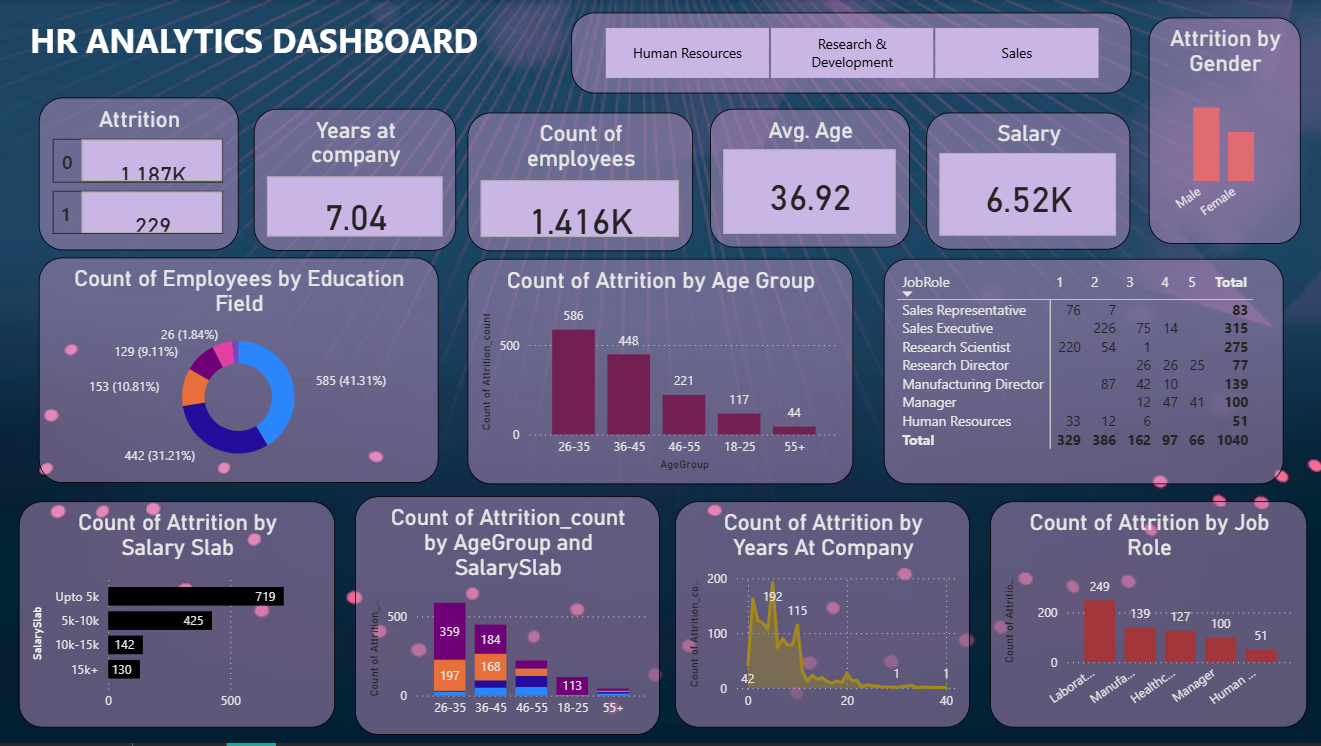

The dashboard page shown, as its layout file describes it:
{"tool":"powerbi","page":{"name":"Page 1","canvas":[1280,720],"ordinal":0},"visuals":[{"type":"cardVisual","title":"Count of employees","fields":{"Data":["CountNonNull(HR_Analytics.EmpID)"]},"box":[452.8,108.4,218.2,134.5],"z":0},{"type":"cardVisual","title":"Attrition","fields":{"Rows":["HR_Analytics.Attrition_count"],"Data":["CountNonNull(HR_Analytics.Attrition_count)"]},"box":[37,94.7,193.5,148.2],"z":1000},{"type":"cardVisual","title":"Avg. Age","fields":{"Data":["Avg(HR_Analytics.Age)"]},"box":[687.5,105.7,193.5,134.5],"z":2000},{"type":"cardVisual","title":"Salary","fields":{"Data":["Avg(HR_Analytics.MonthlyIncome)"]},"box":[897.4,108.4,197.6,133.1],"z":3000},{"type":"cardVisual","title":"Years at company","fields":{"Data":["Avg(HR_Analytics.YearsAtCompany)"]},"box":[245.6,105.7,196.2,137.2],"z":4000},{"type":"donutChart","title":"Count of Employees by Education Field","fields":{"Category":["HR_Analytics.EducationField"],"Y":["CountNonNull(HR_Analytics.EmpID)"]},"box":[37,249.7,387,218.2],"z":5000},{"type":"columnChart","title":"Attrition by Gender","fields":{"Category":["HR_Analytics.Gender"],"Y":["CountNonNull(HR_Analytics.Attrition)"]},"box":[1112.9,16.5,146.8,219.6],"z":6000},{"type":"textbox","box":[17.8,12.3,455.6,52.1],"z":7000},{"type":"slicer","fields":{"Values":["HR_Analytics.Department"]},"box":[553,12.3,542,78.2],"z":8000},{"type":"columnChart","title":"Count of Attrition by Age Group","fields":{"Category":["HR_Analytics.AgeGroup"],"Y":["CountNonNull(HR_Analytics.Attrition_count)"]},"box":[452.8,251.1,373.2,218.2],"z":9000},{"type":"pivotTable","fields":{"Columns":["HR_Analytics.JobLevel"],"Rows":["HR_Analytics.JobRole"],"Values":["CountNonNull(HR_Analytics.Attrition_count)"]},"box":[856.3,251.1,387,218.2],"z":10000},{"type":"barChart","title":"Count of Attrition by Salary Slab","fields":{"Y":["CountNonNull(HR_Analytics.Attrition_count)"],"Category":["HR_Analytics.SalarySlab","HR_Analytics.AgeGroup"]},"box":[18.2,485.4,306.3,219.1],"z":11000},{"type":"areaChart","title":"Count of Attrition by Years At Company","fields":{"Y":["CountNonNull(HR_Analytics.Attrition_count)"],"Category":["HR_Analytics.YearsAtCompany"]},"box":[653.7,485.4,285.7,219.1],"z":12000},{"type":"columnChart","title":"Count of Attrition by Job Role","fields":{"Category":["HR_Analytics.JobRole"],"Y":["CountNonNull(HR_Analytics.Attrition_count)"]},"box":[958.7,485.4,307.5,219.1],"z":13000},{"type":"columnChart","fields":{"Category":["HR_Analytics.AgeGroup"],"Y":["CountNonNull(HR_Analytics.Attrition_count)"],"Series":["HR_Analytics.SalarySlab"]},"box":[343.8,480.6,295.4,231.2],"z":14000}]}

Visuals, with their boxes in screenshot pixels (x1, y1, x2, y2), scaled from the page's 1280x720 canvas onto the 1321x746 screenshot:
"Count of employees" cardVisual: bbox=[467, 112, 692, 252]
"Attrition" cardVisual: bbox=[38, 98, 238, 252]
"Avg. Age" cardVisual: bbox=[710, 110, 909, 249]
"Salary" cardVisual: bbox=[926, 112, 1130, 250]
"Years at company" cardVisual: bbox=[253, 110, 456, 252]
"Count of Employees by Education Field" donutChart: bbox=[38, 259, 438, 485]
"Attrition by Gender" columnChart: bbox=[1149, 17, 1300, 245]
textbox: bbox=[18, 13, 489, 67]
slicer - HR_Analytics.Department: bbox=[571, 13, 1130, 94]
"Count of Attrition by Age Group" columnChart: bbox=[467, 260, 852, 486]
pivotTable - HR_Analytics.JobLevel x HR_Analytics.JobRole: bbox=[884, 260, 1283, 486]
"Count of Attrition by Salary Slab" barChart: bbox=[19, 503, 335, 730]
"Count of Attrition by Years At Company" areaChart: bbox=[675, 503, 969, 730]
"Count of Attrition by Job Role" columnChart: bbox=[989, 503, 1307, 730]
columnChart - HR_Analytics.AgeGroup x CountNonNull(HR_Analytics.Attrition_count): bbox=[355, 498, 660, 738]
